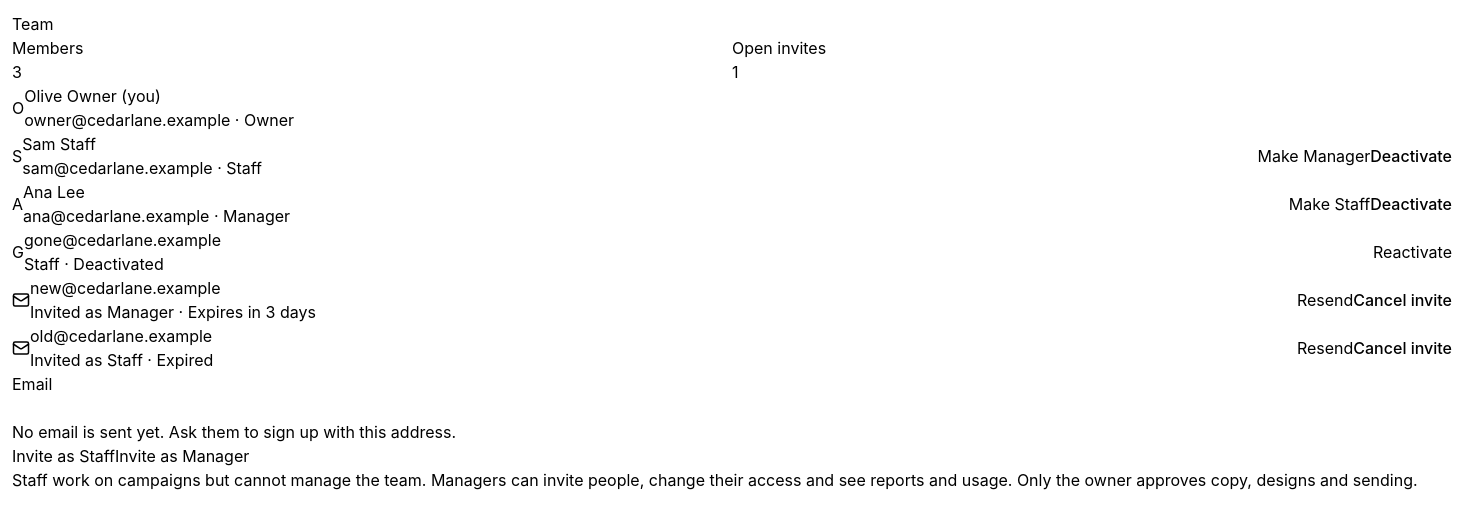
Test case: Team card on Settings (UI-SETb) › resends an invite and answers in the card; a refusal answers there too
What coordinates should you click on to do the following:
click the button with aria-label "Resend: new@cedarlane.example"
I would click on:
 (1325, 300)
Its box is [1297,288,1353,312].
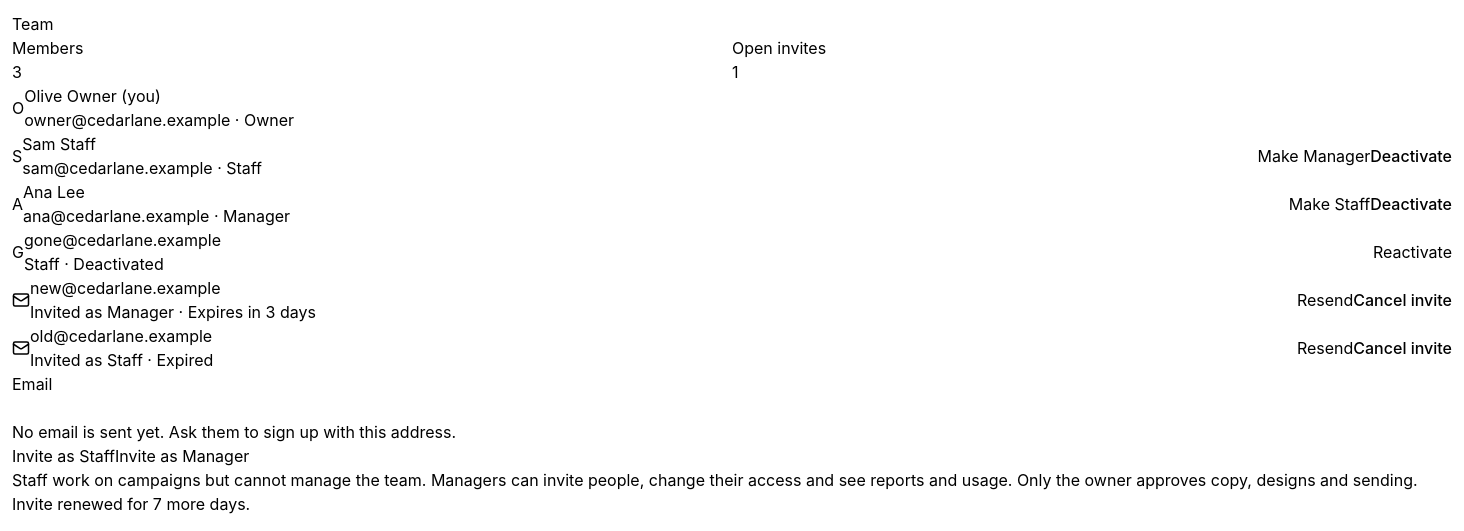
Expected: the text "Invite renewed for 7 more days." is shown, [12,494,250,514]
What coordinates should you click on to do the following:
click the button with aria-label "Resend: new@cedarlane.example"
I would click on:
 (1325, 300)
Its box is [1297,288,1353,312].
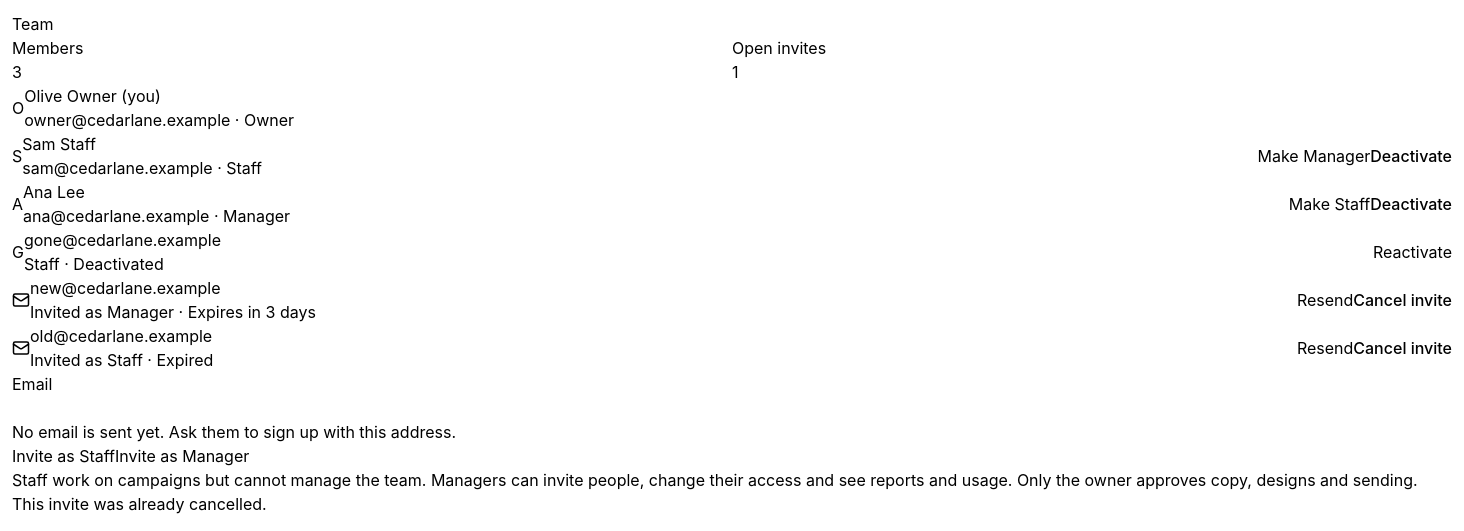
Expected: the text "This invite was already cancelled." is shown, [12,494,267,514]
